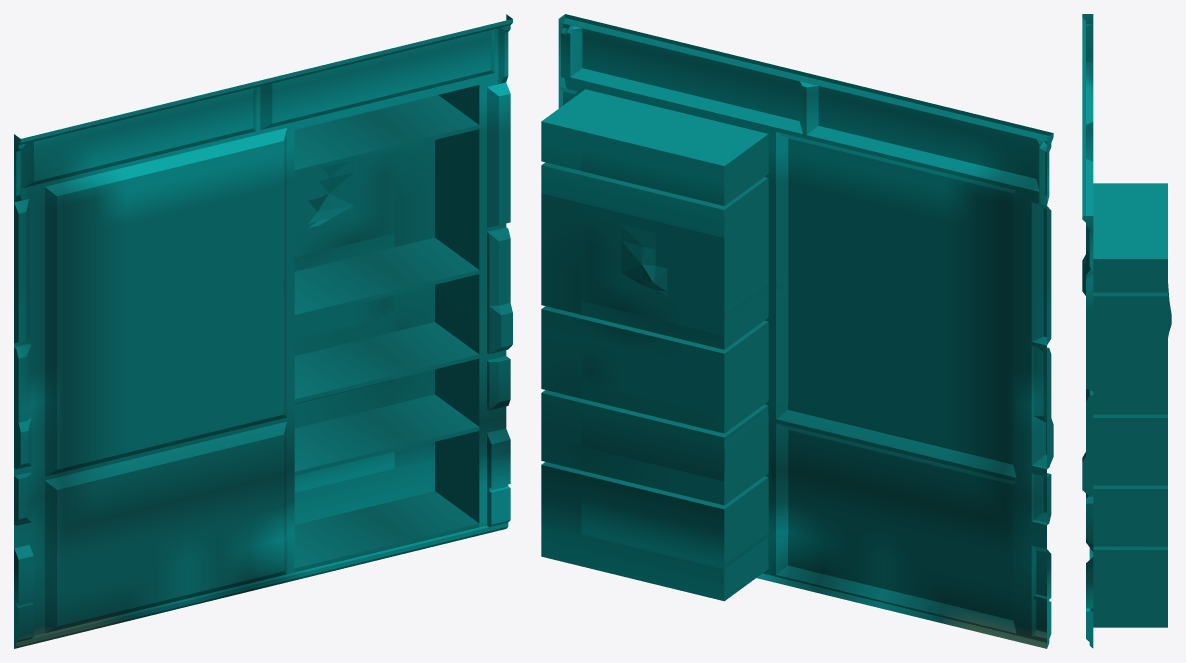
File: med2_6.fbx
3 views of the same model, side by side, from view 1: azimuth 30°, elevation 25°; view 2: azimuth 150°, elevation 25°; view 3: azimuth 270°, elevation 25° (orthographic). The views are drawn at different scales.
Parts seen in each view (by area): view 1: med2_6_mesh; view 2: med2_6_mesh; view 3: med2_6_mesh.
Boxes of the visible parts, box(x1,y1,x2,y2) form: med2_6_mesh: box(14, 14, 512, 648); med2_6_mesh: box(541, 14, 1053, 648); med2_6_mesh: box(1082, 14, 1171, 648).
Size of the model in its own units: 256 by 256 by 47.97.
